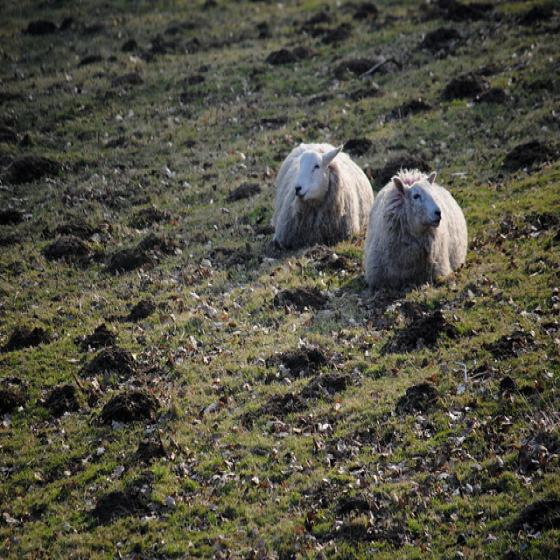sheep: (364, 167, 469, 283), (277, 139, 375, 247)
